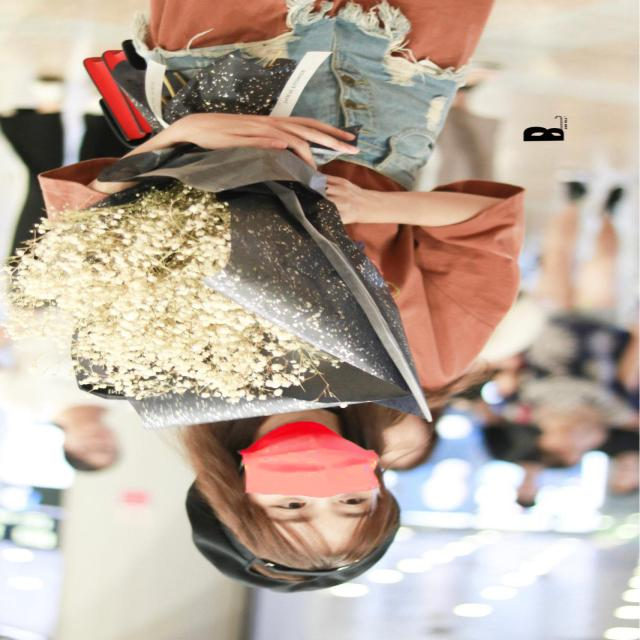mask: (235, 419, 381, 498)
